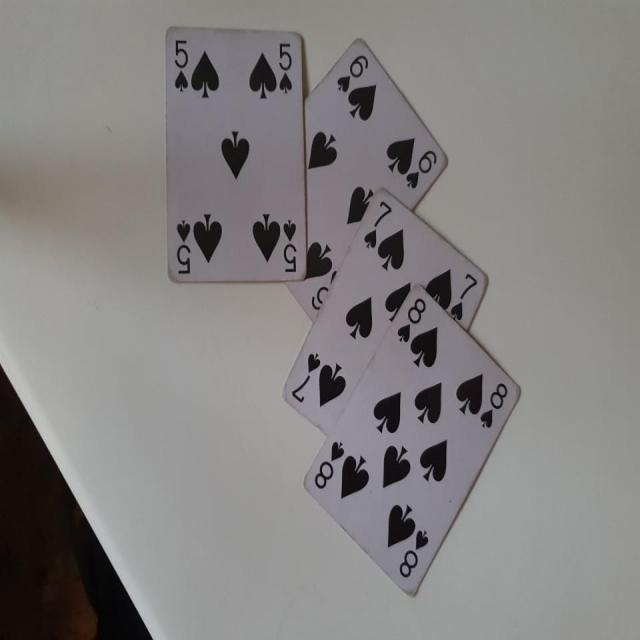5 of spades: (159, 18, 311, 290)
6 of spades: (262, 31, 457, 328)
7 of spades: (281, 192, 493, 474)
8 of spades: (297, 284, 527, 601)
